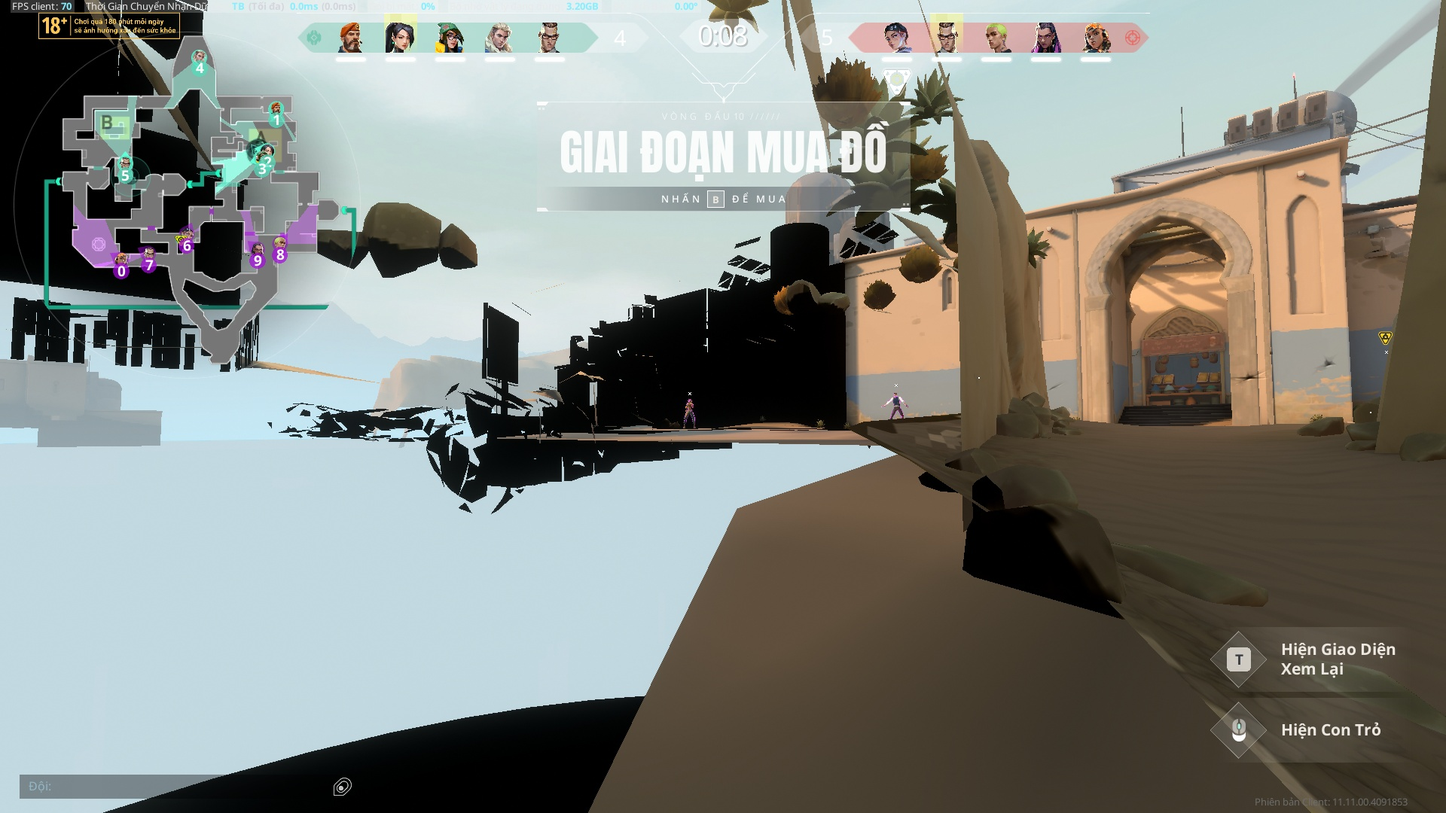body: (892, 396, 901, 406), (686, 402, 694, 411)
head: (892, 391, 897, 397), (688, 398, 692, 403)
